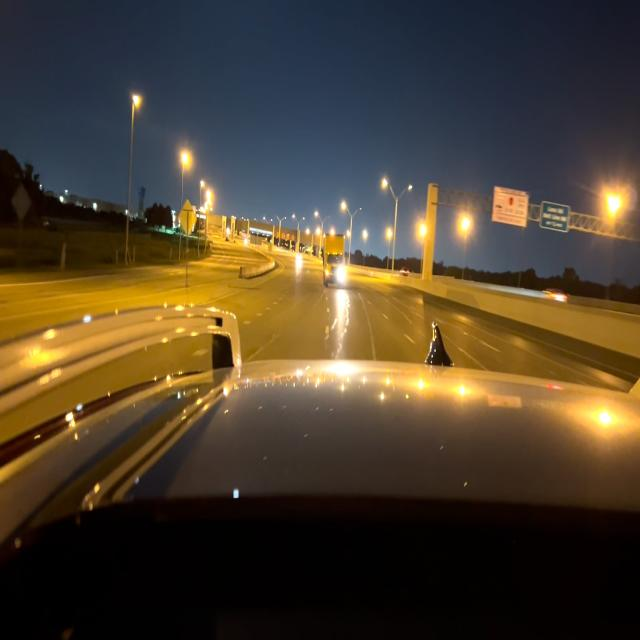back-of-sign: (179, 200, 197, 238)
